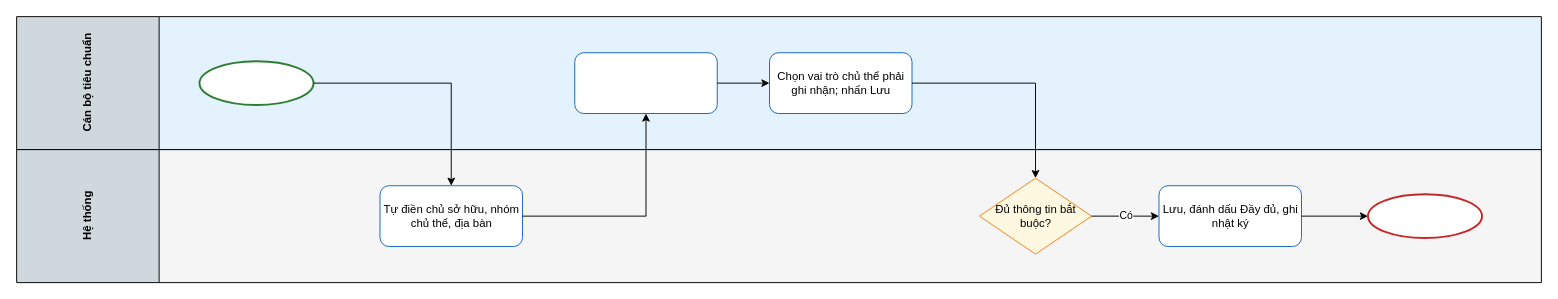
This 1558x299 diagram has some shape labels left out. The centre of each missing label's shape, as x and y in pixels:
"Kết thúc" belongs at point (1424, 215).
"Mở thẻ Thẩm quyền và phạm vi" belongs at point (256, 82).
"Nhập căn cứ ban hành, đính kèm văn bản" belongs at point (645, 83).
